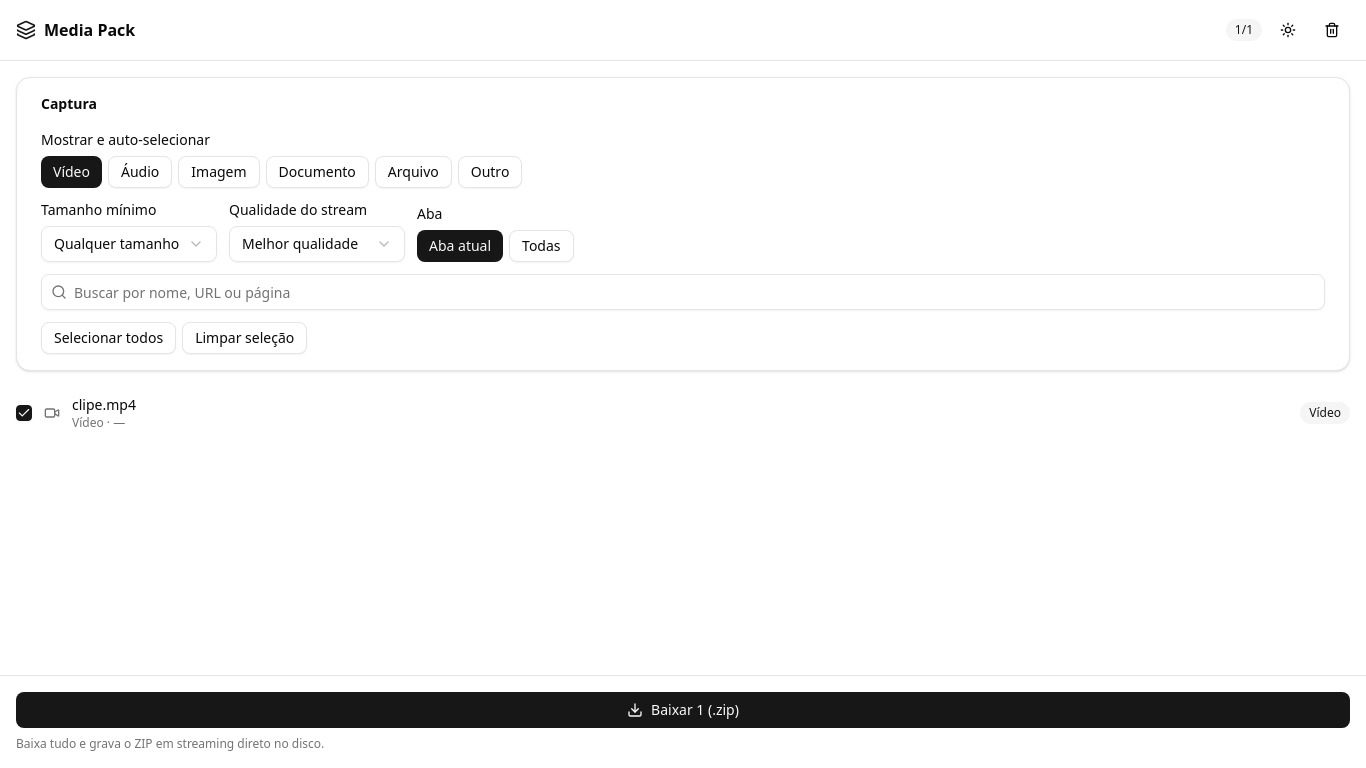
Test: <App /> › permite desmarcar a seleção automática
The width and height of the screenshot is (1366, 768).
expect the text "clipe.mp4" is shown: met, box x1=72 y1=395 x2=136 y2=414
Click the button "Limpar seleção": (245, 338) x1=182 y1=322 x2=307 y2=354
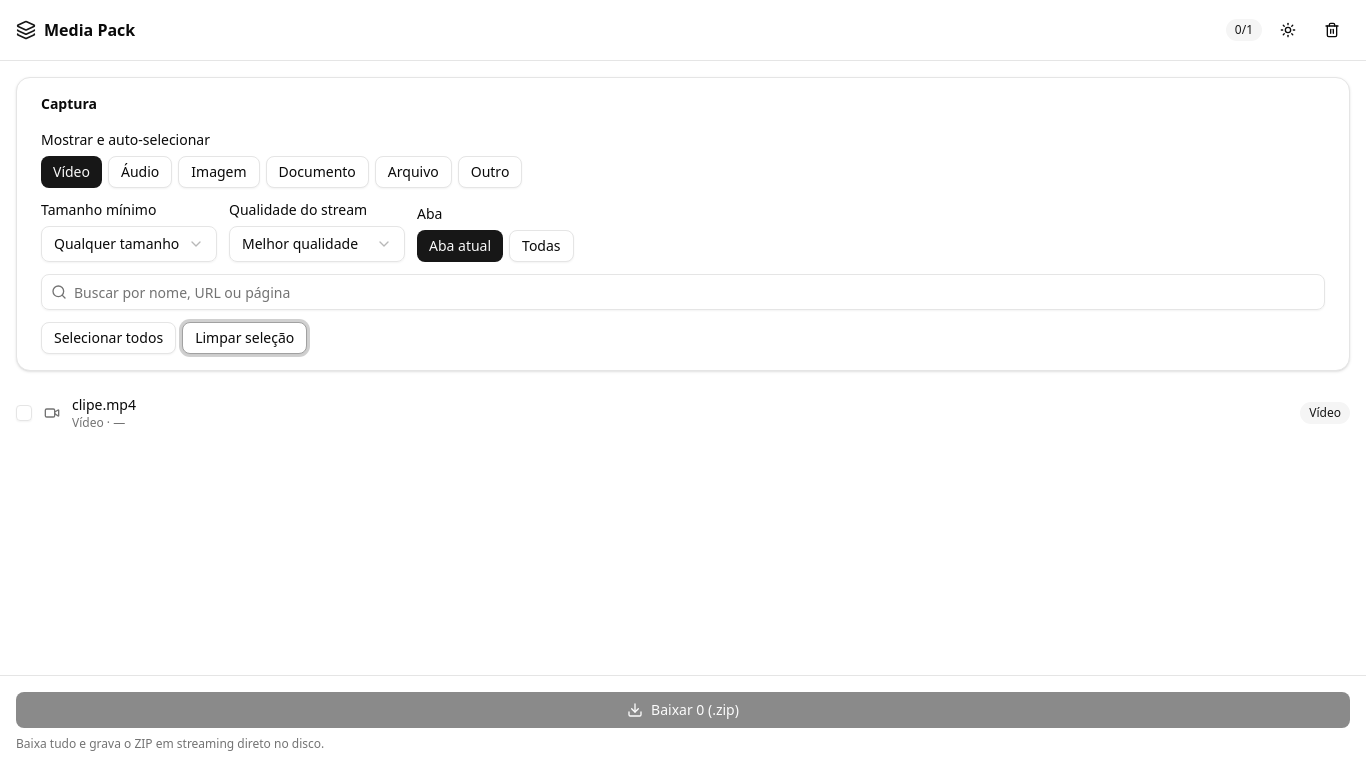
expect the button "Baixar 0 (.zip)" is disabled: met, box x1=16 y1=692 x2=1350 y2=728
